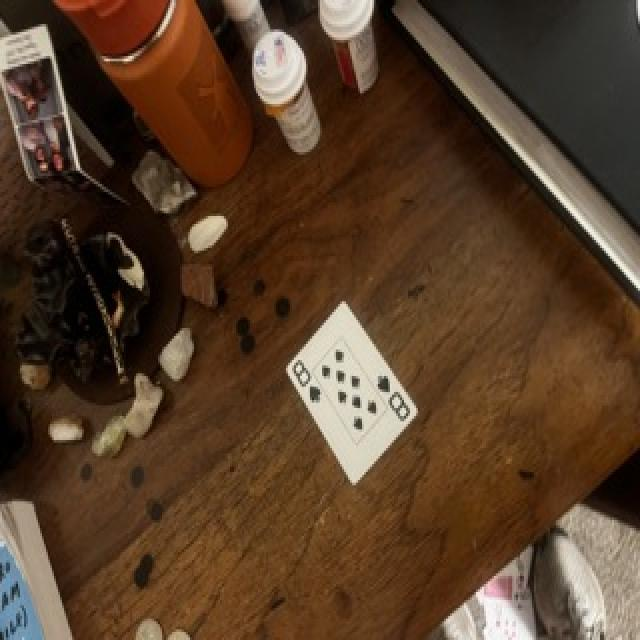8 of spades: (286, 302, 418, 483)
